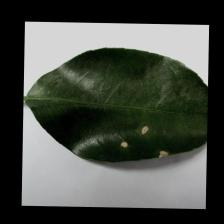canker: (112, 113, 174, 164)
